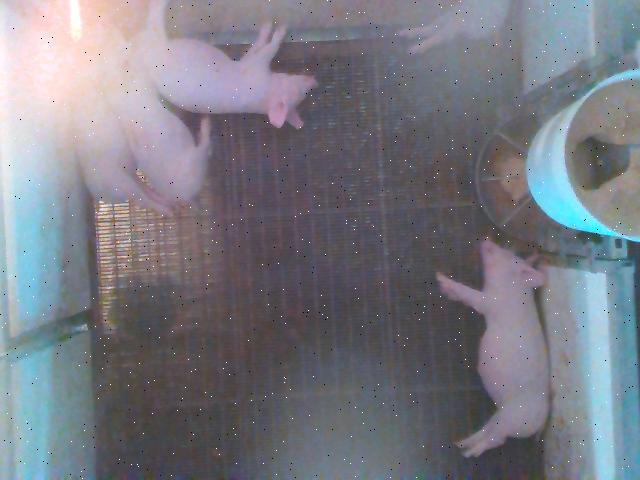pig-4: (100, 29, 210, 202)
